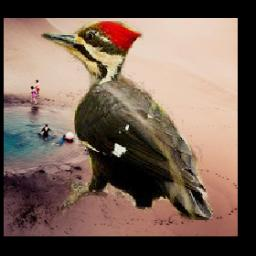Woodpecker: (39, 22, 212, 221)
